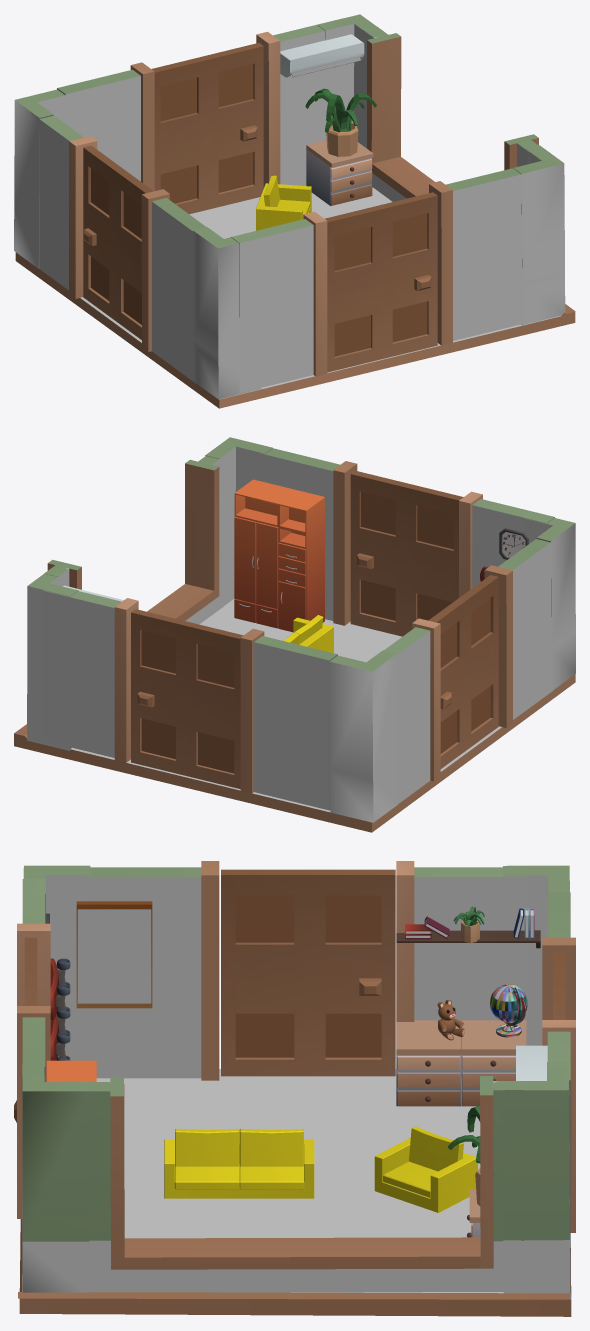
The model's file is SALON completa color VERDE.fbx.
3 renders of one model, top to bottom at view 1: azimuth 30°, elevation 25°; view 2: azimuth 150°, elevation 25°; view 3: azimuth 270°, elevation 25°, orthographic. The views are drawn at different scales.
Parts seen in each view (by area): view 1: paret_puerta18, puerta11, puerta12, paret_puerta19, paret_puerta20, puerta13, paret_esquina_38, suelo, paret_esquina_36, paret_con_ventana_grande8, mesita_con_planta, paret_esquina_39 (+4 smaller); view 2: paret_puerta20, puerta12, paret_puerta19, puerta11, armario, paret_esquina_39, paret_puerta18, puerta13, suelo, paret_con_ventana_grande8, paret_esquina_38, paret_esquina_36 (+4 smaller); view 3: paret_puerta19, puerta13, paret_con_ventana_grande8, suelo, fombra3, sofas, paret_esquina_36, paret_esquina_37, comod_con_jugere_y_globus, cuadro, paret_puerta18, paret_puerta20 (+9 smaller).
Part boxes in pixels (x1,y1,x2,y2): paret_puerta18: (231, 168, 522, 392); puerta11: (325, 192, 437, 372); puerta12: (151, 43, 263, 214); paret_puerta19: (30, 112, 205, 382); paret_puerta20: (57, 18, 352, 191); puerta13: (83, 145, 153, 339); paret_esquina_38: (193, 227, 261, 399); suelo: (15, 185, 575, 408); paret_esquina_36: (513, 145, 565, 325); paret_con_ventana_grande8: (363, 26, 538, 201); mesita_con_planta: (305, 88, 376, 205); paret_esquina_39: (14, 89, 65, 268); paret_puerta20: (42, 590, 337, 810); puerta12: (131, 609, 243, 788); paret_puerta19: (384, 539, 552, 803); puerta11: (350, 470, 463, 636); armario: (234, 479, 324, 632); paret_esquina_39: (329, 650, 397, 822); paret_puerta18: (259, 448, 554, 625); puerta13: (428, 575, 498, 768); suelo: (14, 598, 575, 832); paret_con_ventana_grande8: (44, 456, 223, 624); paret_esquina_38: (524, 518, 575, 691); paret_esquina_36: (205, 437, 272, 605); paret_puerta19: (84, 861, 528, 1080); puerta13: (221, 869, 395, 1076); paret_con_ventana_grande8: (89, 1076, 524, 1292); suelo: (18, 1069, 571, 1316); fombra3: (139, 1109, 480, 1223); sofas: (164, 1126, 477, 1212); paret_esquina_36: (22, 1063, 89, 1292); paret_esquina_37: (502, 1062, 570, 1293); comod_con_jugere_y_globus: (396, 984, 527, 1106); cuadro: (76, 901, 152, 1008); paret_puerta18: (17, 879, 50, 1218); paret_puerta20: (542, 892, 575, 1281).
Size of the model in its own units: 833 by 364 by 836.
